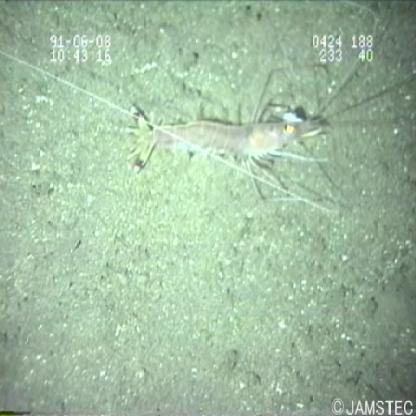Bio: (120, 1, 382, 223)
